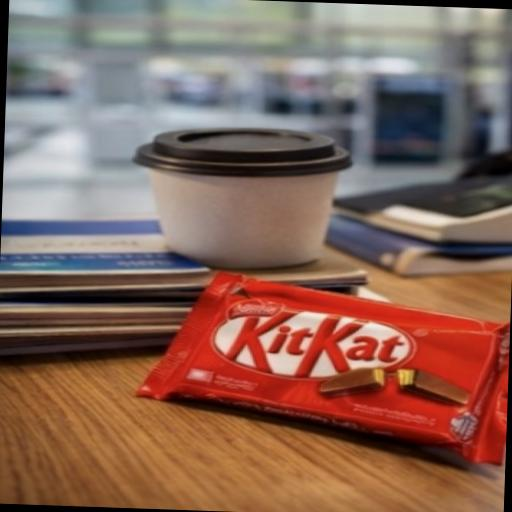kitkat: (95, 224, 512, 483)
